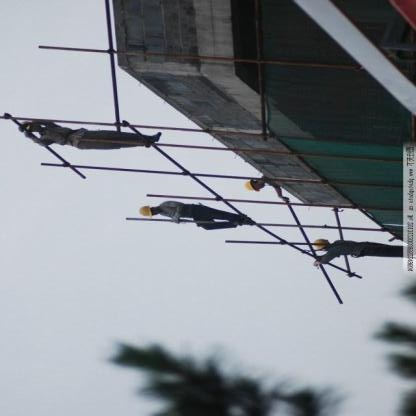yellow: (312, 237, 330, 250), (244, 178, 259, 193)
